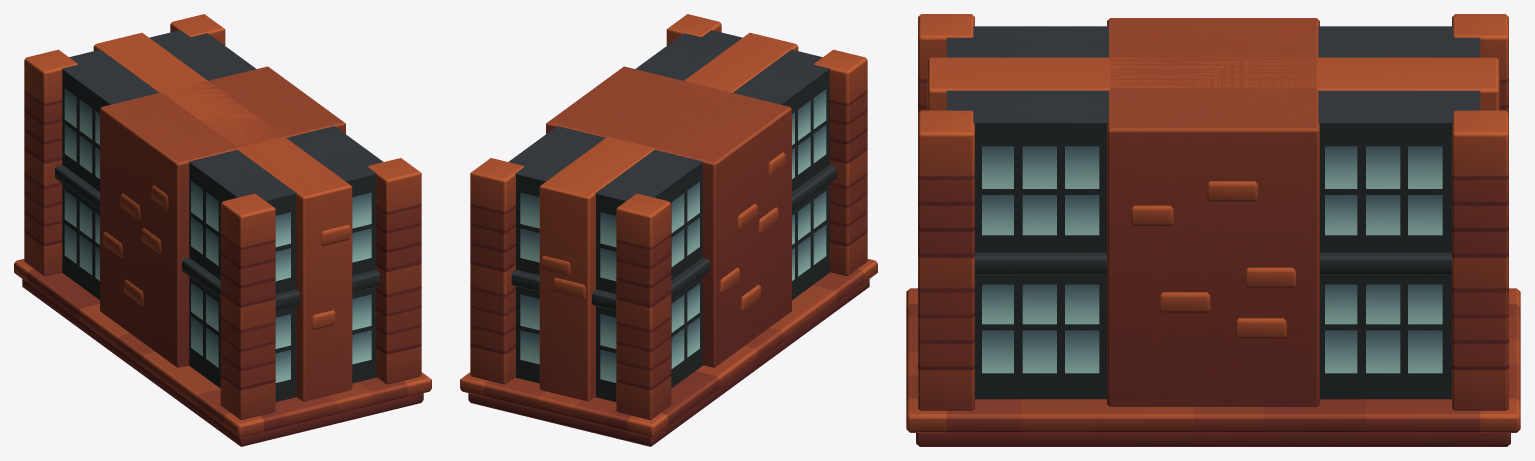
File: office_building_type2_double_floor_red.fbx
3 views of the same model, side by side, from view 1: azimuth 30°, elevation 25°; view 2: azimuth 150°, elevation 25°; view 3: azimuth 270°, elevation 25° (orthographic). The views are drawn at different scales.
Parts seen in each view (by area): view 1: office_building_type2_double_floor_red; view 2: office_building_type2_double_floor_red; view 3: office_building_type2_double_floor_red.
Boxes of the visible parts, box(x1,y1,x2,y2) form: office_building_type2_double_floor_red: box(14, 14, 431, 446); office_building_type2_double_floor_red: box(460, 14, 877, 446); office_building_type2_double_floor_red: box(906, 14, 1520, 446).
Size of the model in its own units: 800 by 909 by 1610.
